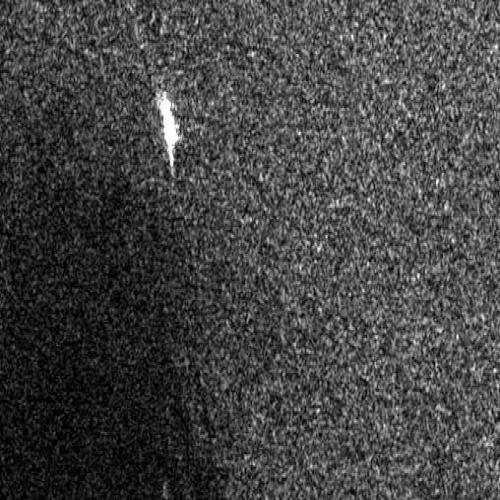ship: (157, 89, 181, 166)
